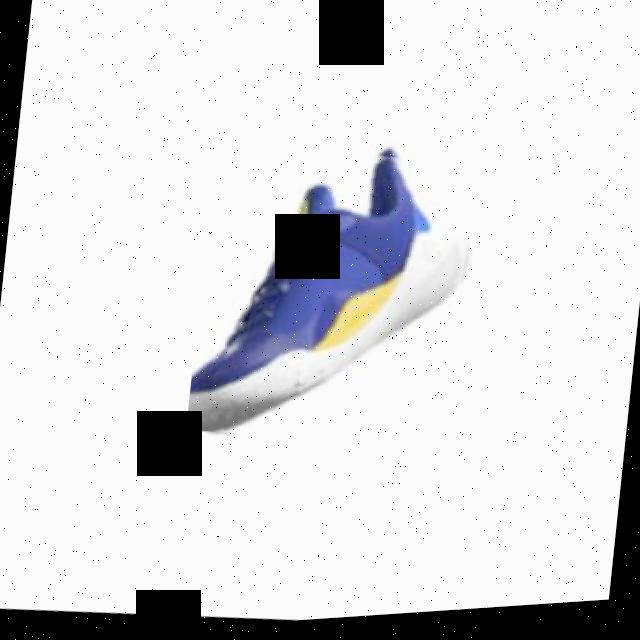shoe: (185, 131, 482, 461)
